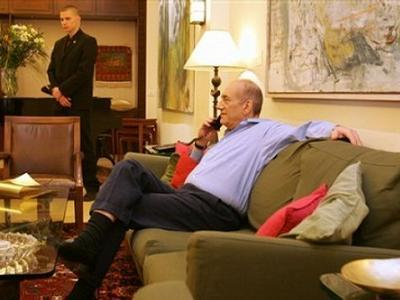person: (57, 77, 360, 300)
